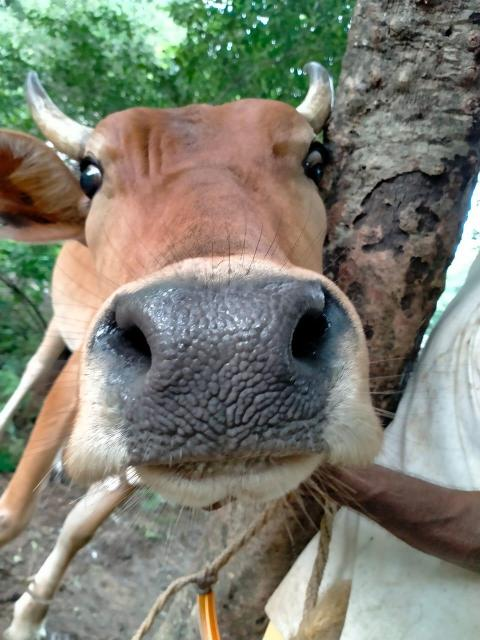Muzzle: (102, 288, 354, 462)
